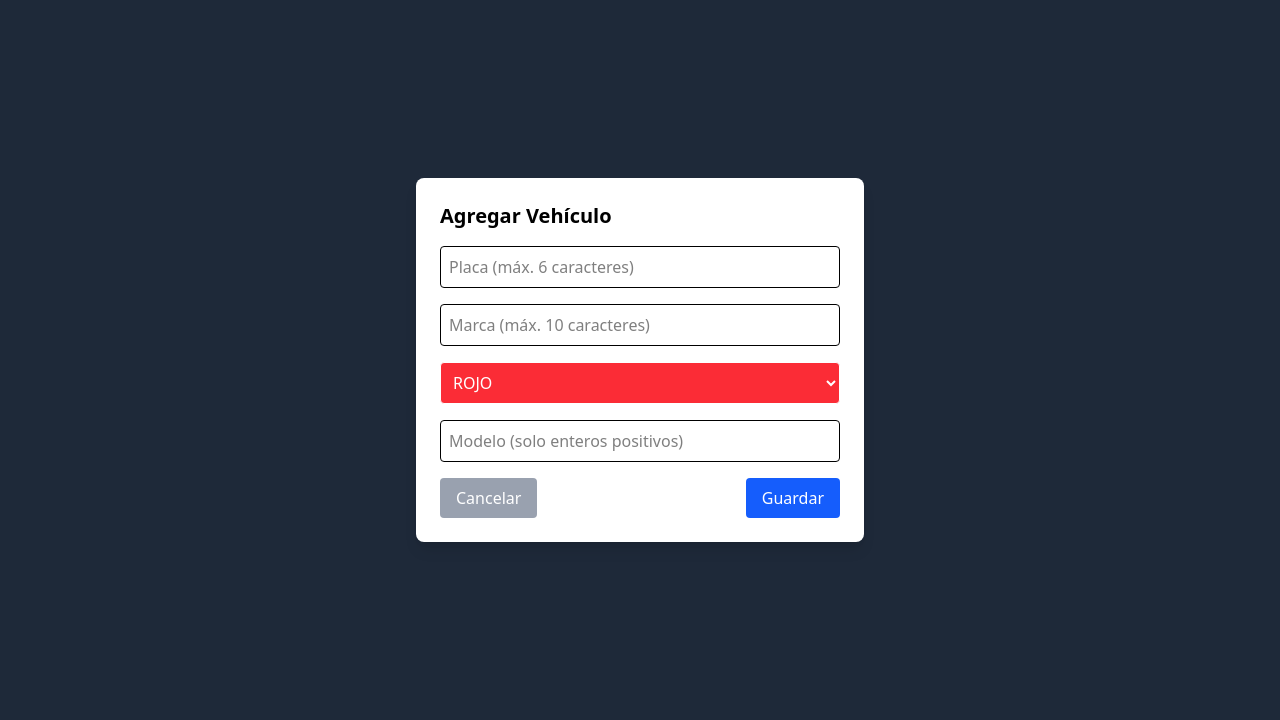
Test case: AddVehicle Component - validateForm › shows an error if 'placa' exceeds 6 characters
The width and height of the screenshot is (1280, 720).
Type "ABCDEFG" into the field with placeholder "Placa (máx. 6 caracteres)" at (640, 267), box [440,246,840,288]
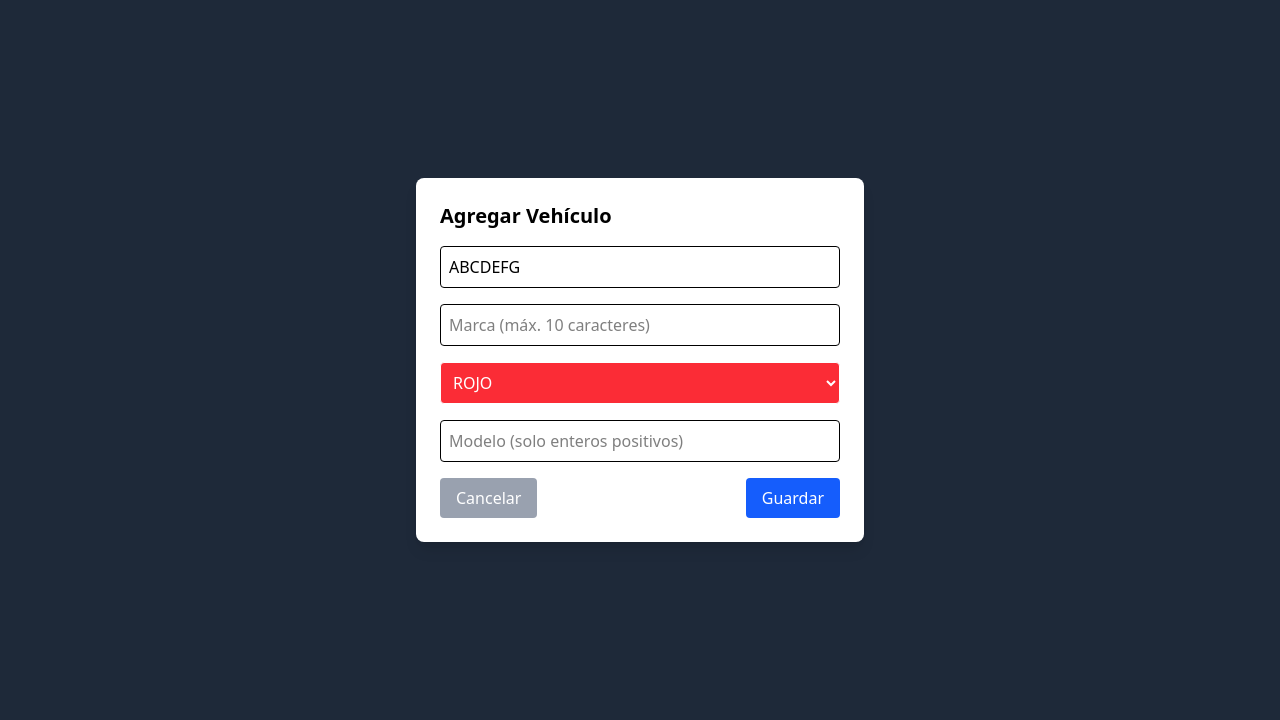
Type "Toyota" into the field with placeholder "Marca (máx. 10 caracteres)" at (640, 325), box [440,304,840,346]
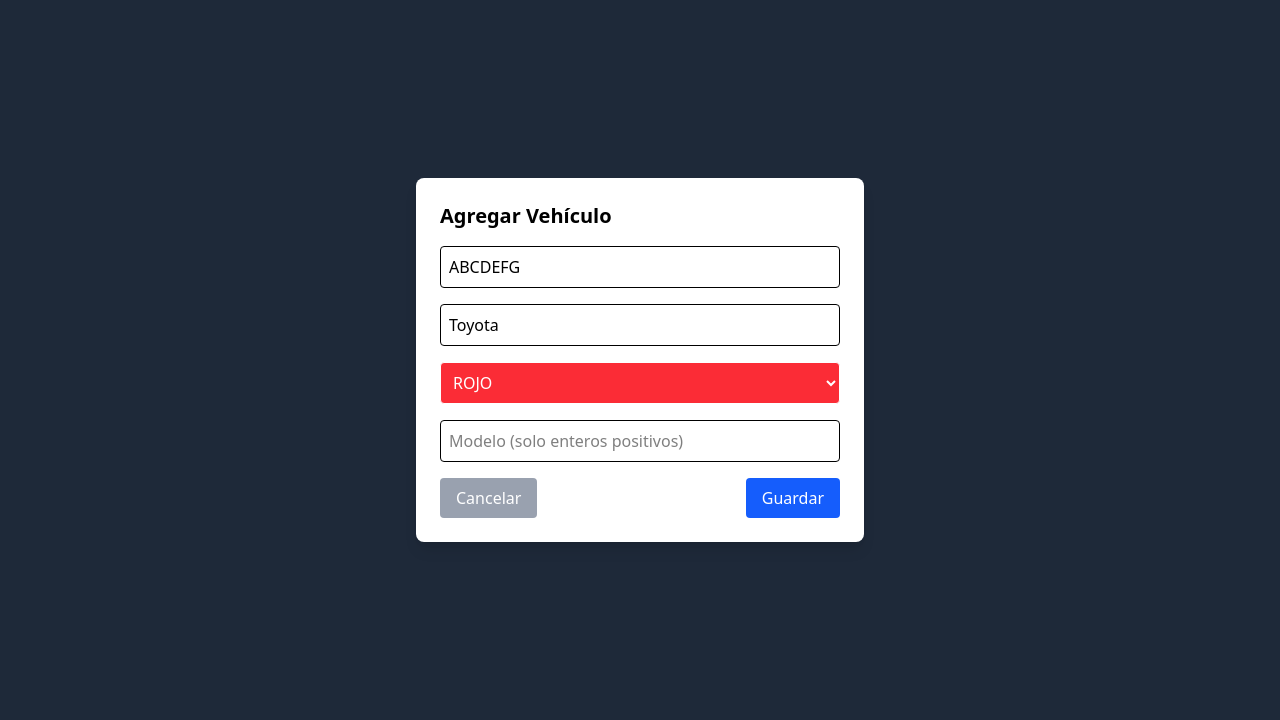
Type "2020" into the number field with placeholder "Modelo (solo enteros positivos)" at (640, 441), box [440,420,840,462]
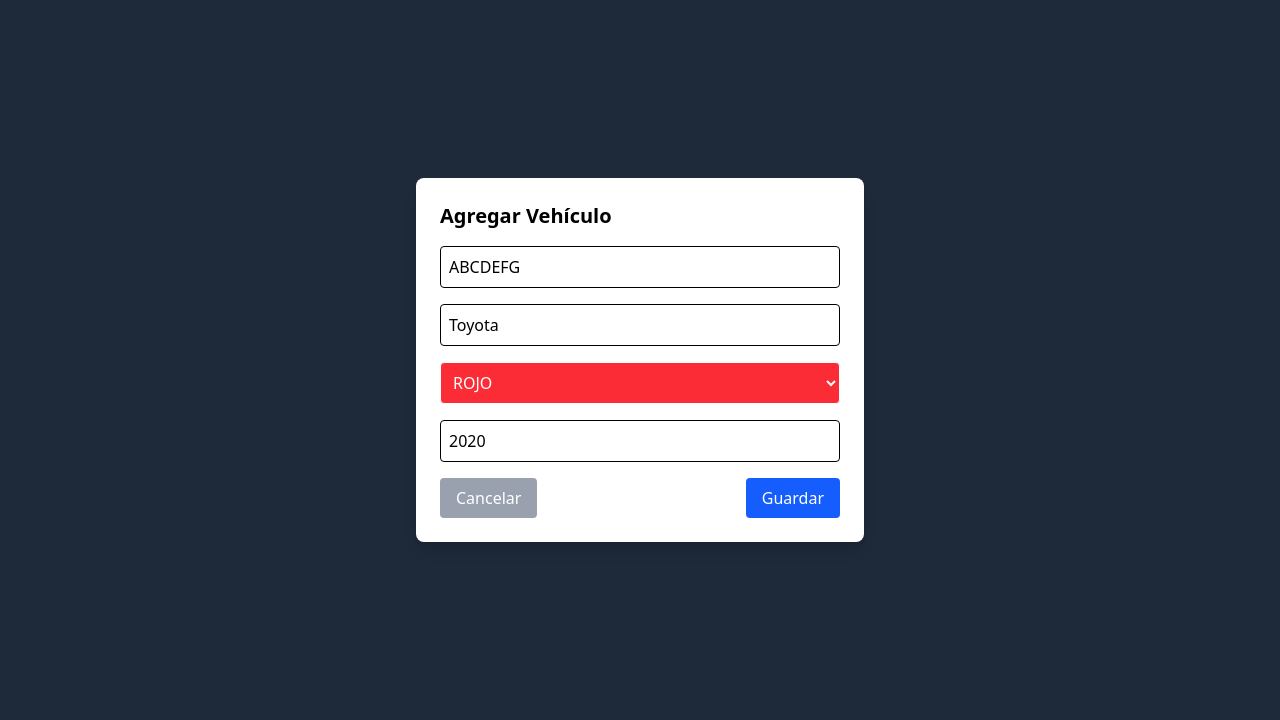
Click the button "Guardar" at (793, 498), box [746,478,840,518]
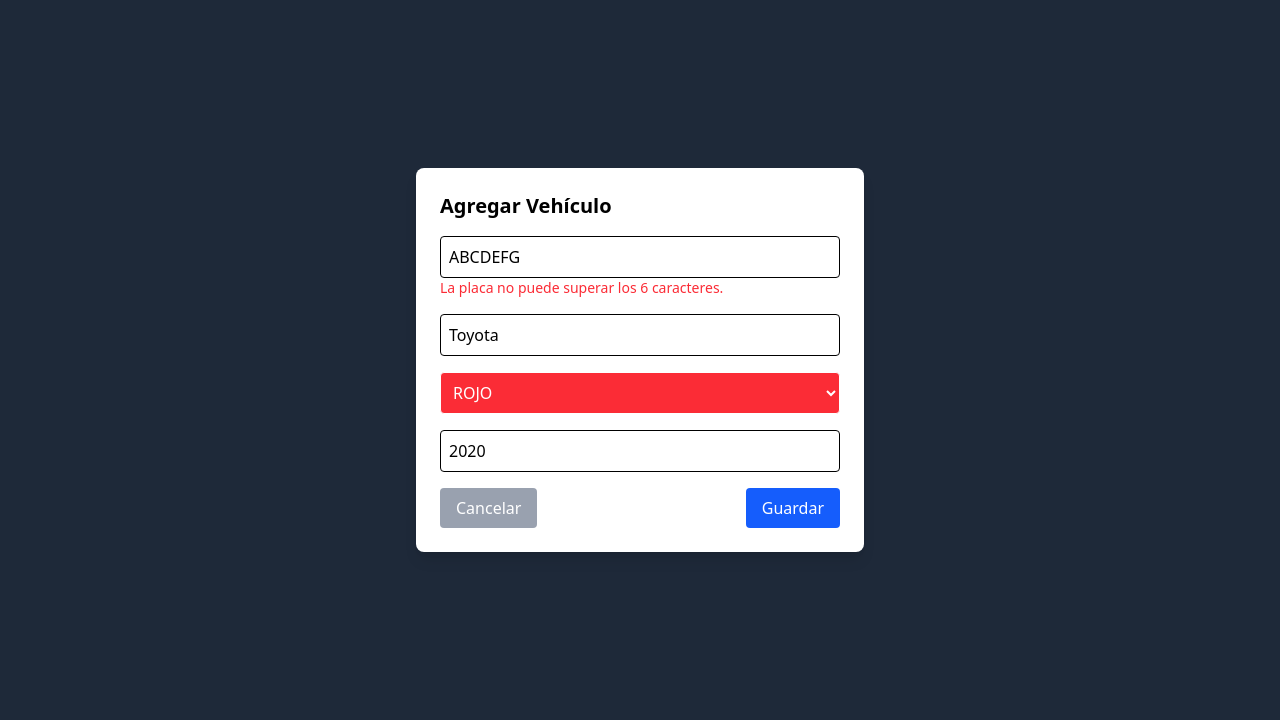
expect the text "La placa no puede superar los 6 caracteres." is shown: met, box [440,278,723,297]
